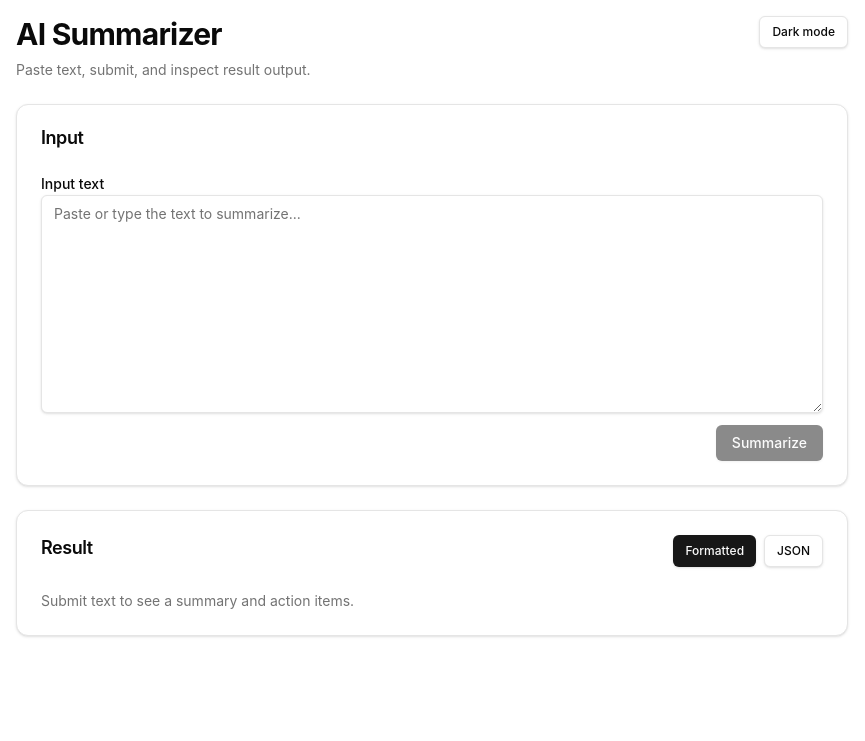
Test: App › toggles to JSON view after a successful response
Type "Trigger a successful summarize request." into the text box labelled "Input text". click: (432, 304)
box: [41,195,823,413]
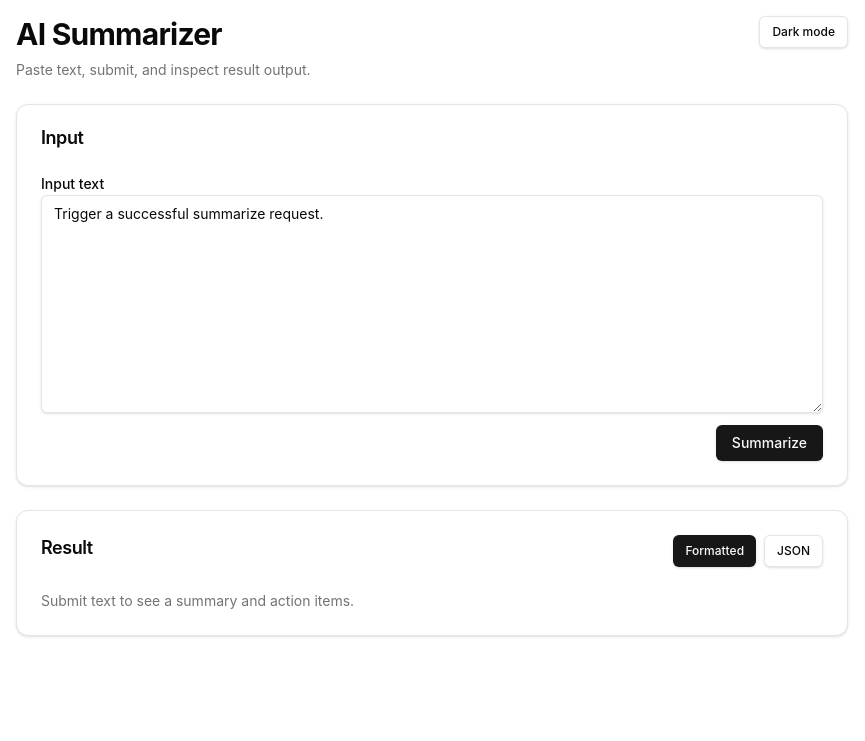
Click the button "Summarize". click: click(769, 443)
box: [716,425,823,461]
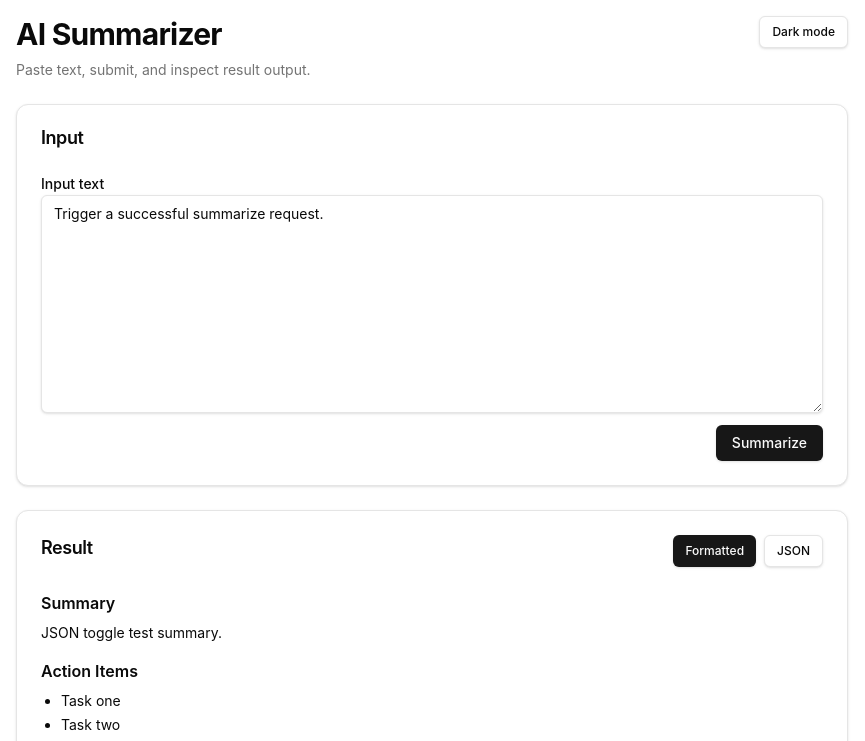
Now the text "JSON toggle test summary." is shown, box [41,624,222,641]
Click the button "JSON". click: click(794, 551)
box: [764,535,823,567]
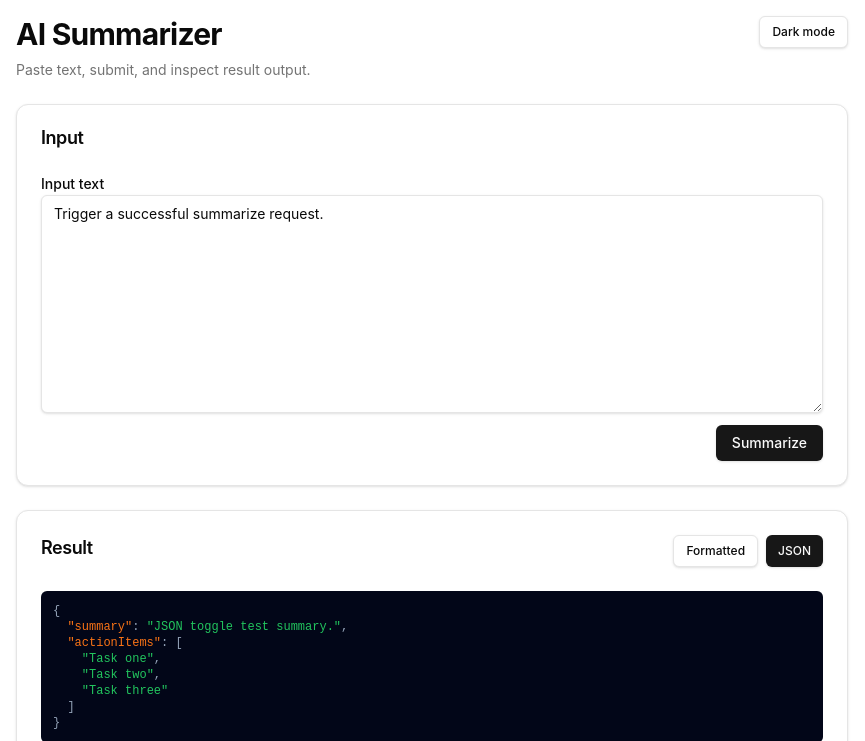
Now the text "\"summary\"" is shown, box [67,620,132,634]
Now the text "\"actionItems\"" is shown, box [67,636,161,650]
Now the text "\"Task one\"" is shown, box [82,652,154,666]
